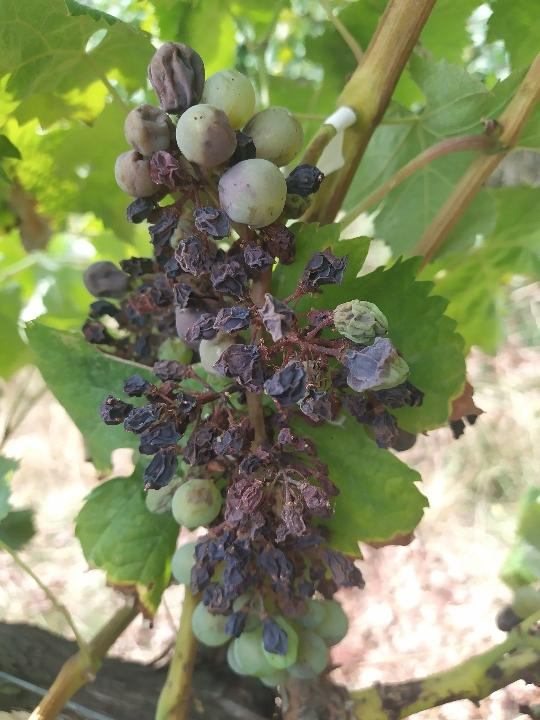grape: (73, 36, 427, 690)
